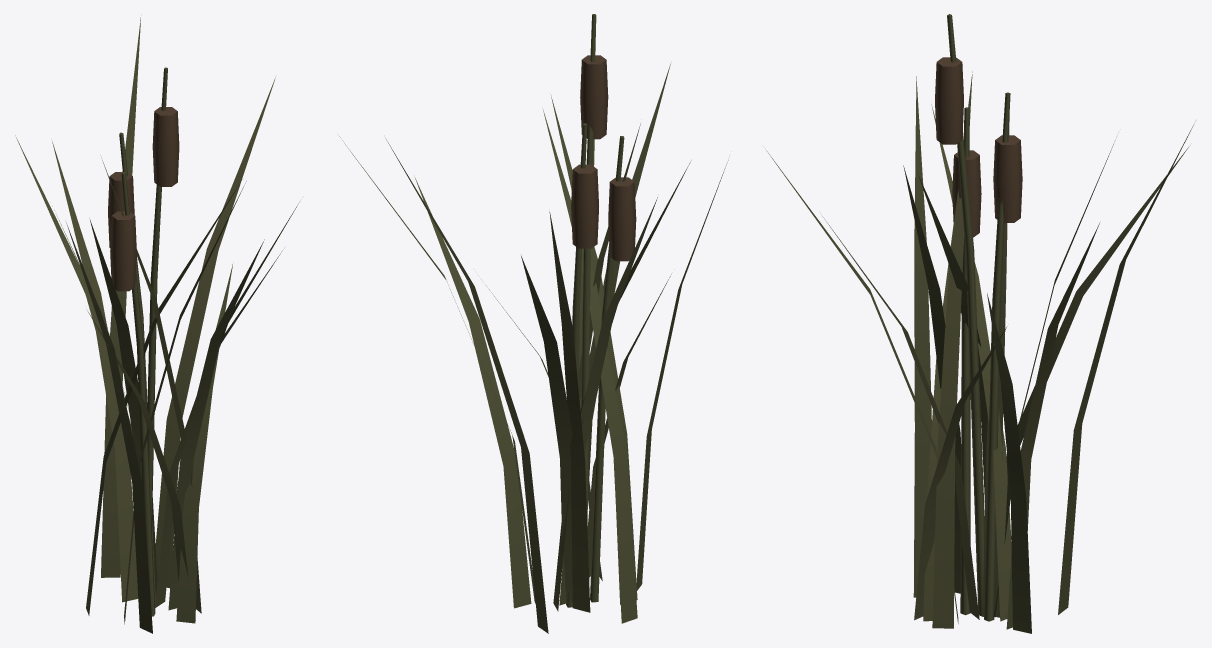
File: cattails_1_burnt2.glb
3 renders of one model, left to right at view 1: azimuth 30°, elevation 25°; view 2: azimuth 150°, elevation 25°; view 3: azimuth 270°, elevation 25°, orthographic. The views are drawn at different scales.
Parts seen in each view (by area): view 1: cattails_1_burnt2; view 2: cattails_1_burnt2; view 3: cattails_1_burnt2.
Part boxes in pixels (x1=…): cattails_1_burnt2: x1=15, y1=17, x2=299, y2=633; cattails_1_burnt2: x1=339, y1=14, x2=728, y2=633; cattails_1_burnt2: x1=766, y1=14, x2=1193, y2=633.
Bounding box in the file's own units: 0.8691 × 1.54 × 1.02.
